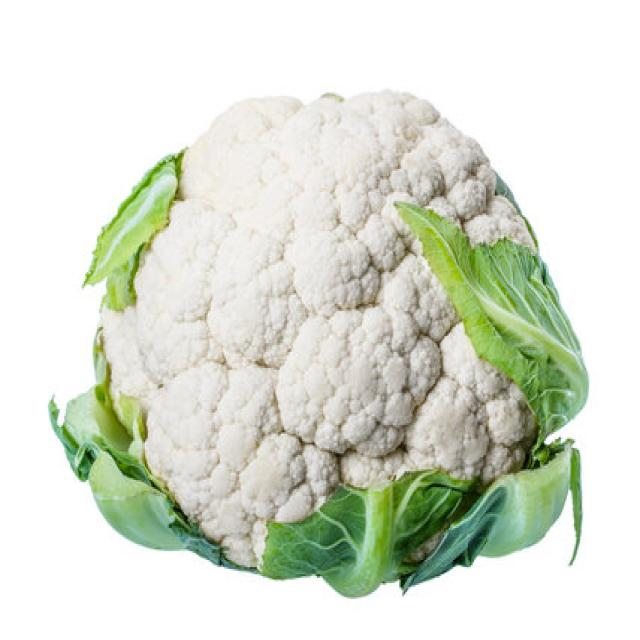Cauliflower: (90, 85, 547, 572)
